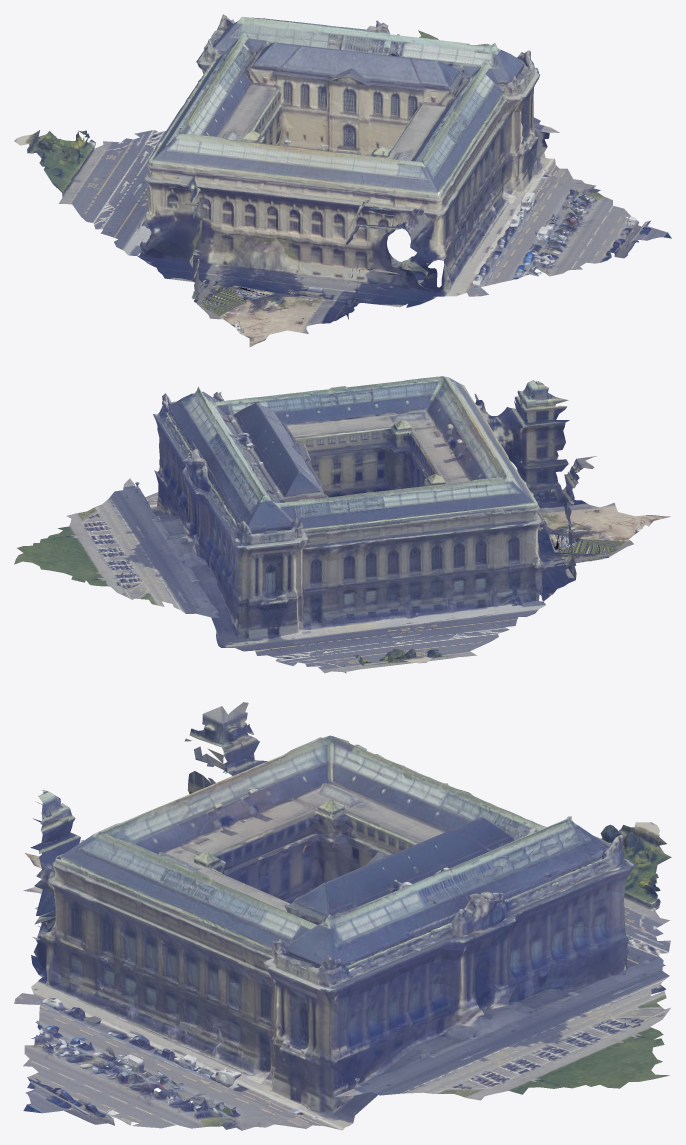
3 views of the same model, one above another, from view 1: azimuth 30°, elevation 25°; view 2: azimuth 150°, elevation 25°; view 3: azimuth 270°, elevation 25° (orthographic). The views are drawn at different scales.
Size of the model in its own units: 109 by 32.72 by 108.
Materials: 1 (1 with a texture image).
